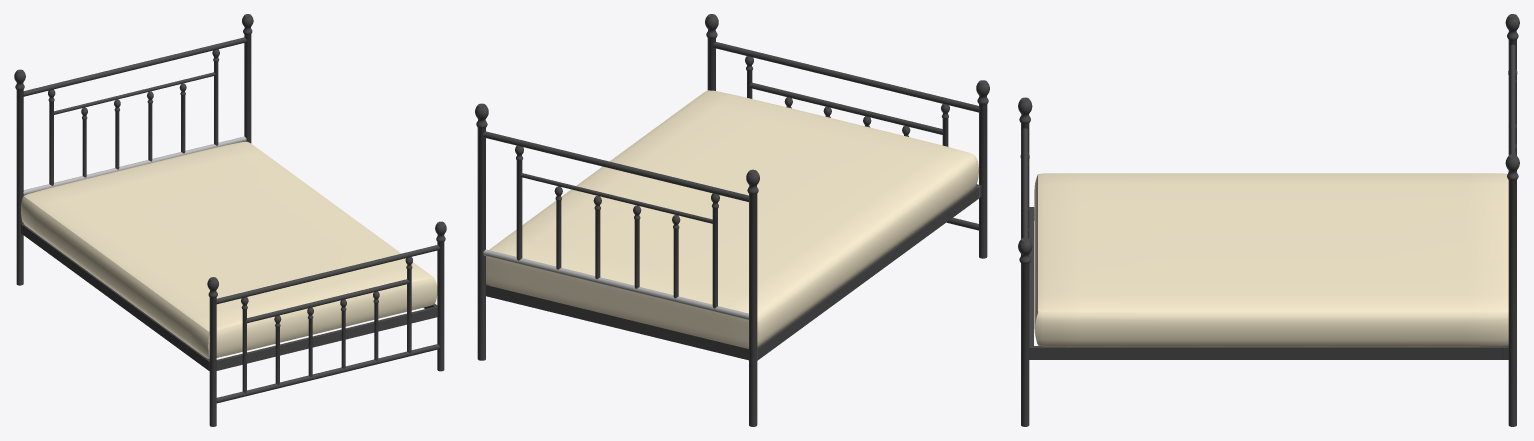
File: lyster_platform bed.fbx
3 renders of one model, left to right at view 1: azimuth 30°, elevation 25°; view 2: azimuth 150°, elevation 25°; view 3: azimuth 270°, elevation 25°, orthographic. The views are drawn at different scales.
Parts seen in each view (by area): view 1: Lyster Platform Bed.001; view 2: Lyster Platform Bed.001; view 3: Lyster Platform Bed.001.
Part boxes in pixels (box(x1,y1,x2,y2)): Lyster Platform Bed.001: box(14, 14, 446, 426); Lyster Platform Bed.001: box(475, 14, 989, 426); Lyster Platform Bed.001: box(1018, 14, 1519, 426).
Size of the model in its own units: 1.62 by 1.39 by 2.34.
